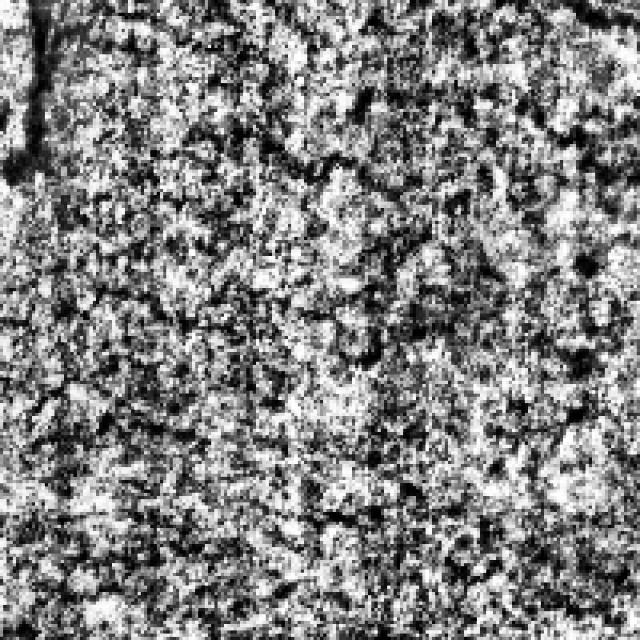Pitted_Surface: (19, 125, 499, 461)
